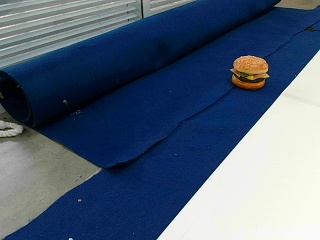burger: (229, 54, 268, 88)
